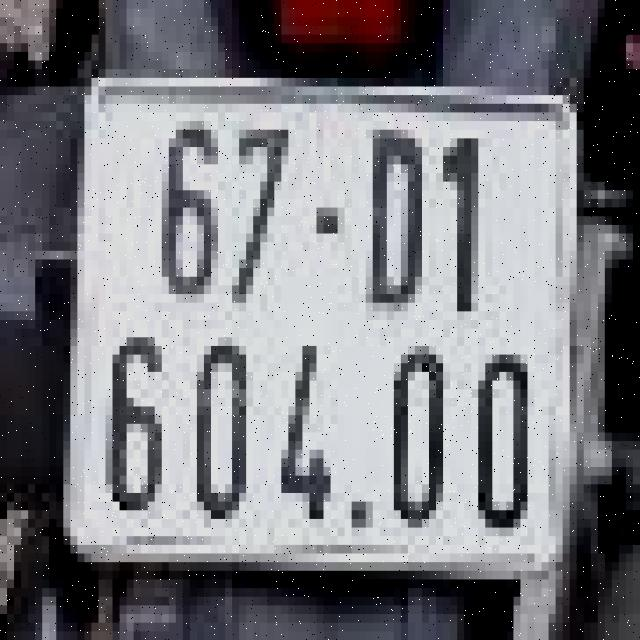0: (186, 329, 257, 536), (376, 328, 447, 528), (464, 346, 535, 528)
1: (443, 121, 485, 320)
4: (267, 320, 345, 554)
6: (98, 324, 169, 515), (155, 108, 218, 307)
7: (225, 121, 295, 311)
D: (355, 108, 433, 316)
